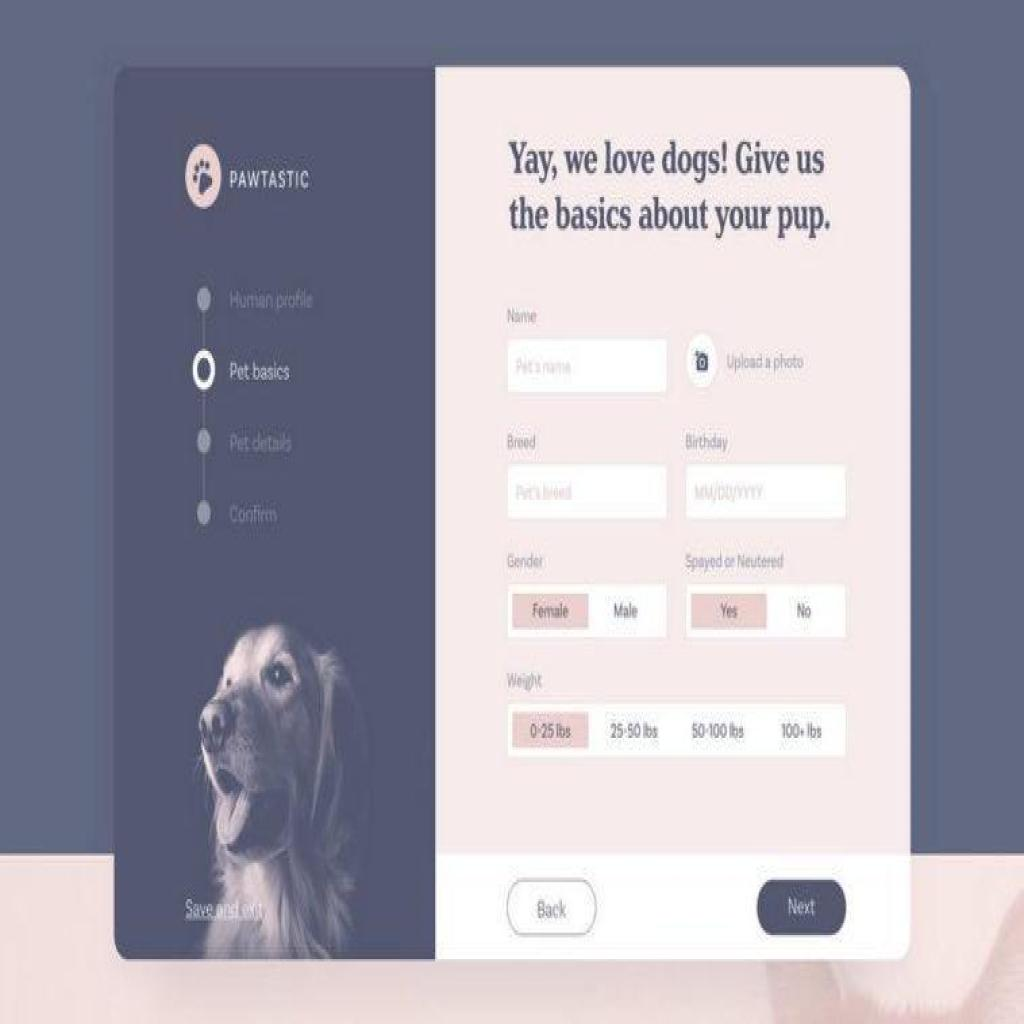button: (507, 875, 597, 940), (755, 880, 846, 940), (511, 592, 590, 632), (690, 591, 769, 630)
icon: (692, 342, 713, 382)
input: (686, 459, 848, 527), (506, 462, 668, 526), (505, 334, 670, 394)
label: (505, 135, 831, 238), (226, 356, 293, 394), (682, 550, 786, 574), (226, 284, 314, 312), (224, 168, 311, 192), (724, 349, 804, 375), (228, 426, 293, 454), (679, 430, 735, 457), (228, 502, 282, 529), (505, 668, 543, 695), (506, 551, 546, 572), (506, 430, 536, 452), (504, 306, 538, 324)
